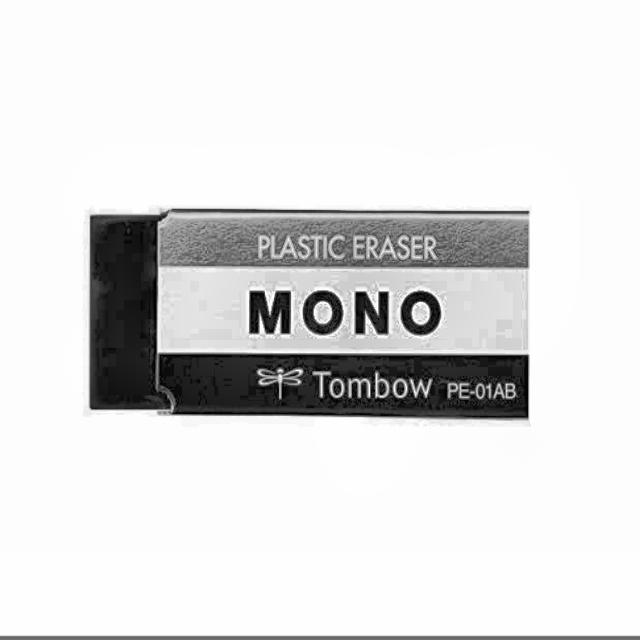eraser: (85, 201, 537, 427)
